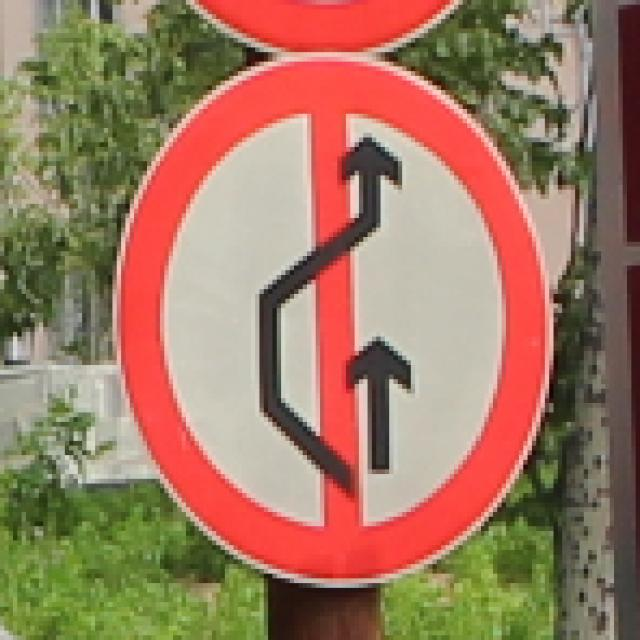Not that Direction: (100, 46, 552, 568)
